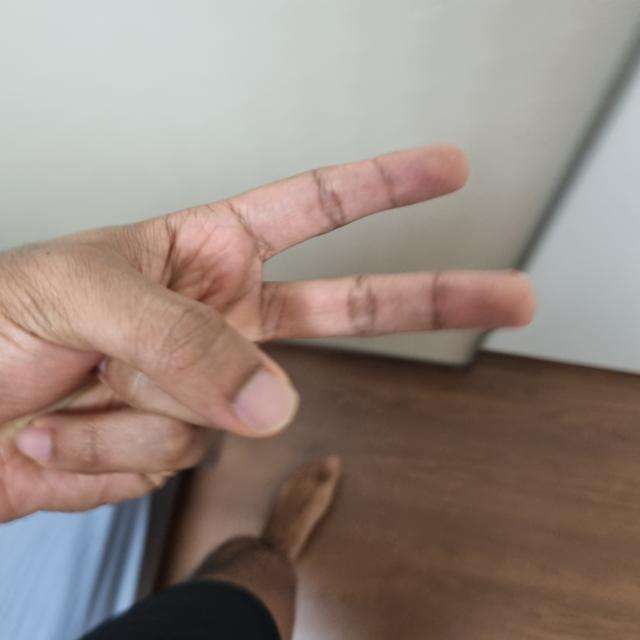Scissors: (0, 144, 534, 640)
